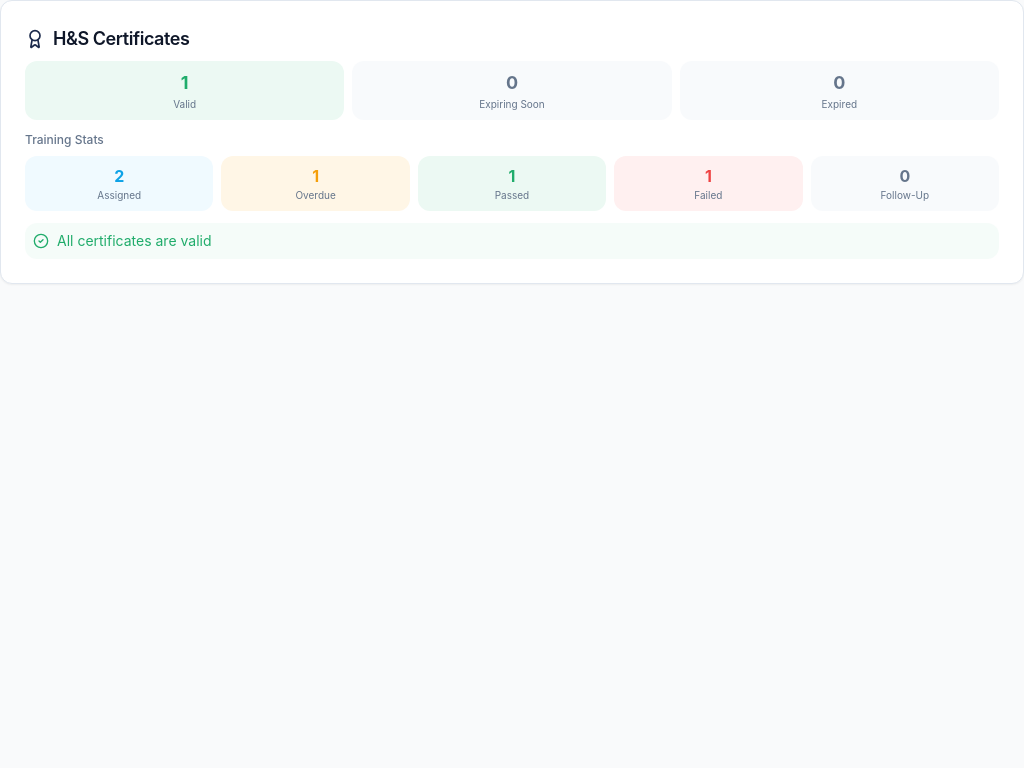
CertificateExpiryWidget › opens the admin certificates popup when H&S Certificates is clicked
The image size is (1024, 768).
Click the button with aria-label "Open H&S certificates" at {"x": 107, "y": 39}, box top-left (25, 25), bottom-right (189, 53)
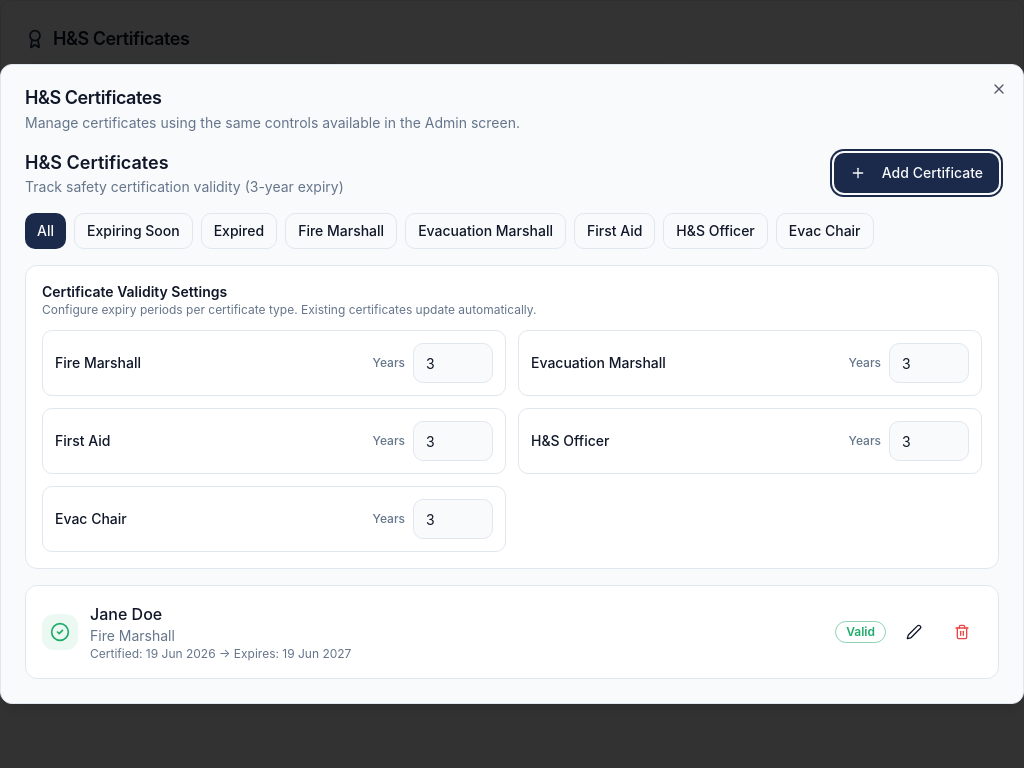
Now the text "Manage certificates using the same controls available in the Admin screen." is shown, box top-left (25, 114), bottom-right (520, 131)
Now the button "Add Certificate" is shown, box top-left (834, 153), bottom-right (999, 193)
